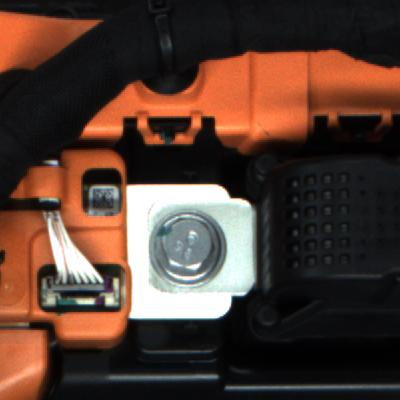nut_b: (139, 203, 251, 291)
